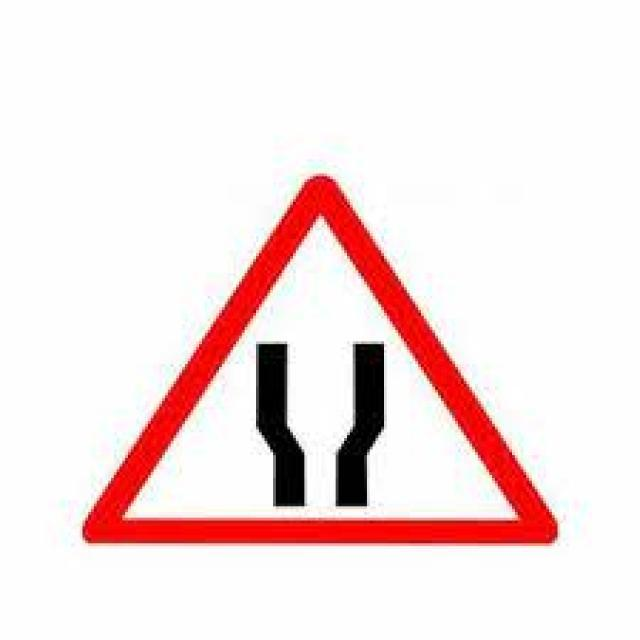road widens ahead: (84, 170, 556, 545)
